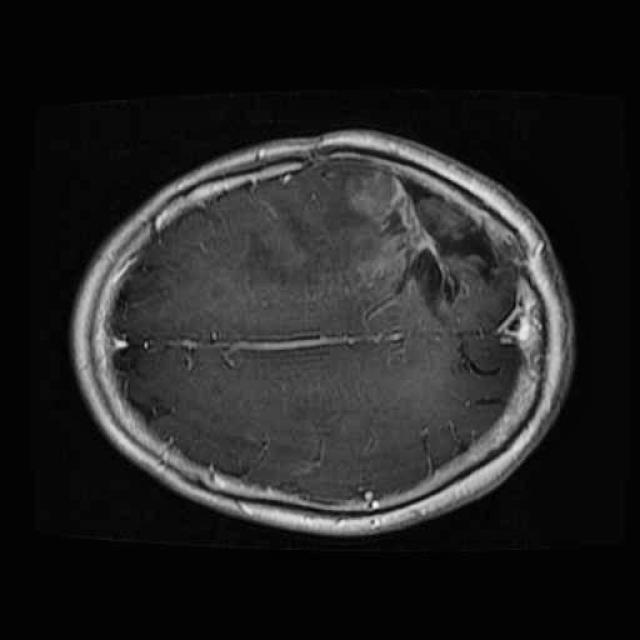Non-Tumor: (346, 150, 520, 334)
